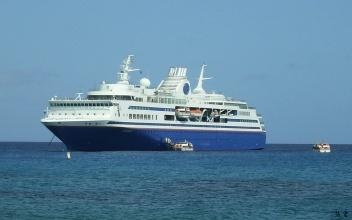otherboat: (172, 140, 196, 152), (310, 141, 332, 154)
youlun: (41, 48, 262, 150)
